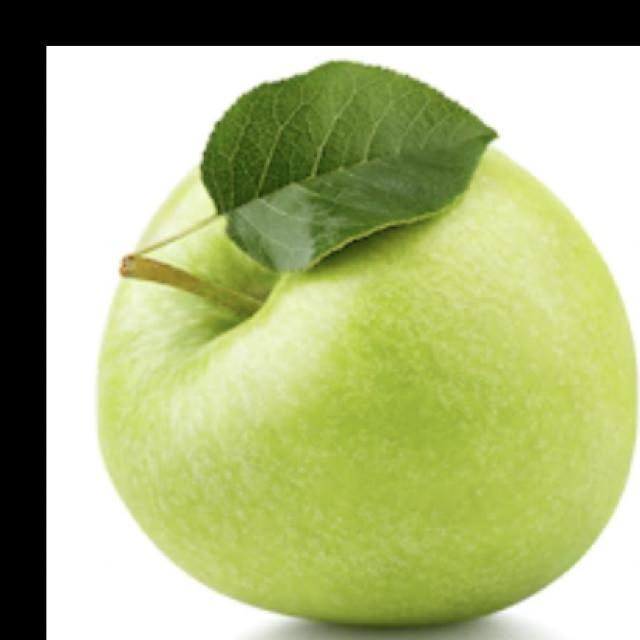Fresh Apple: (100, 46, 640, 640)
